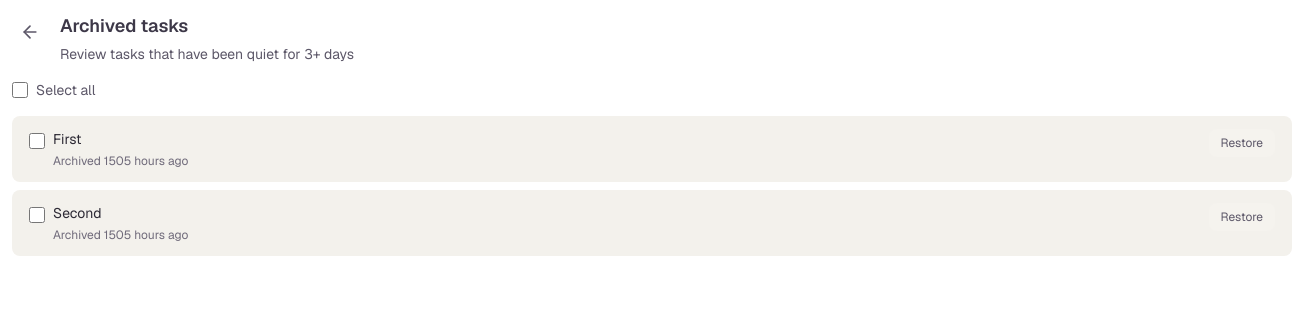
Test: TaskArchiveView › supports multi-select, select-all, and selected count
The width and height of the screenshot is (1304, 327).
Click the 1st checkbox with test id "archived-task-checkbox": [37, 141] box [29,133,45,149]
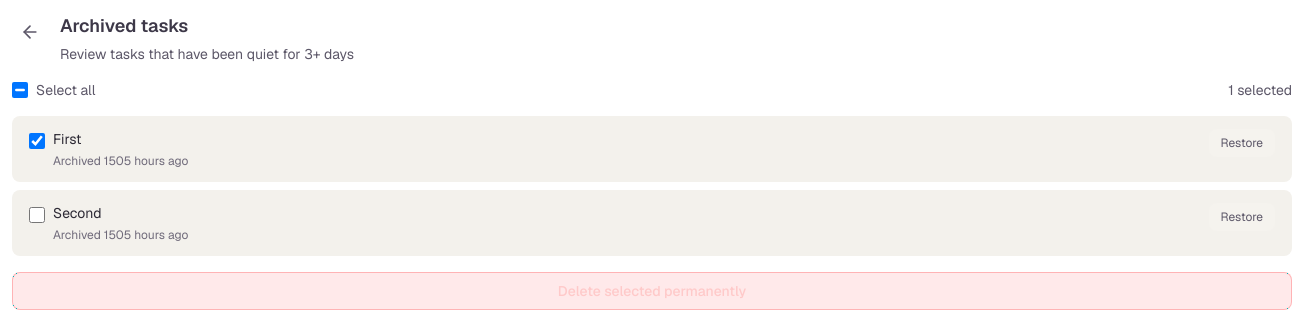
Result: the text with test id "task-archive-selected-count" reads "1 selected" at [1228,81,1292,99]
Click the checkbox with test id "task-archive-select-all": [20, 90] box [12,82,28,98]
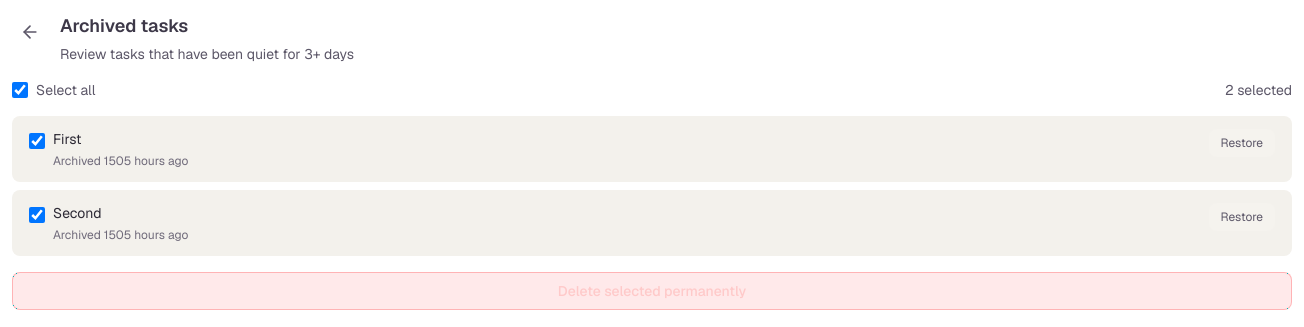
Result: the text with test id "task-archive-selected-count" reads "2 selected" at [1225,81,1292,99]
Click the checkbox with test id "task-archive-select-all": [20, 90] box [12,82,28,98]
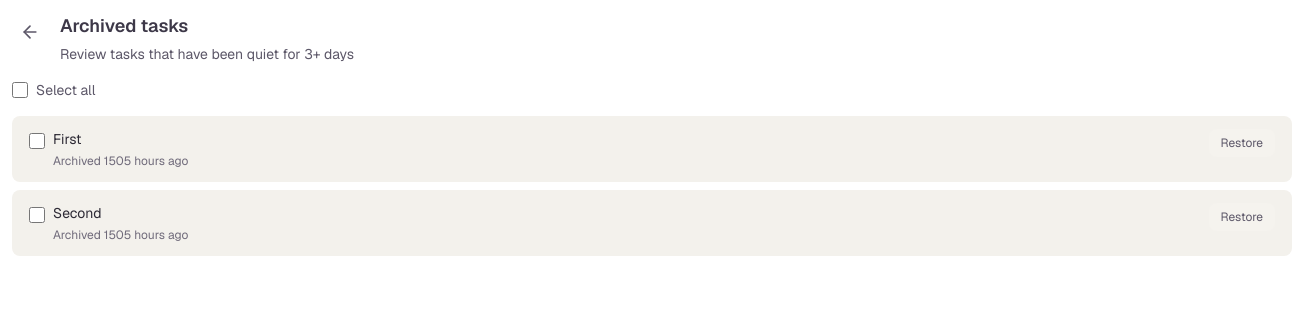
Result: the text with test id "task-archive-selected-count" is gone
